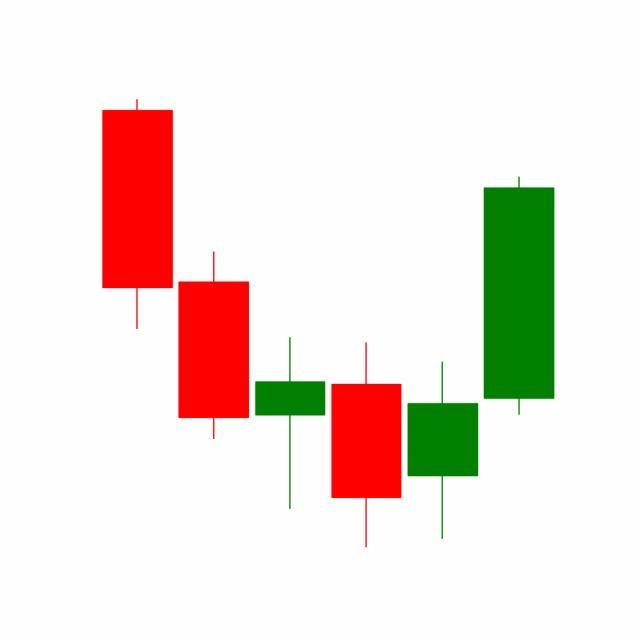Hikkake Pattern: (175, 172, 555, 549)
